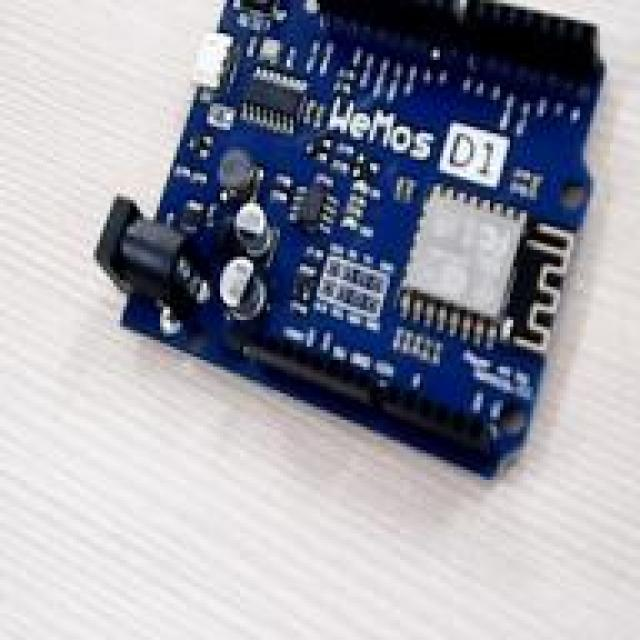Wemos: (98, 1, 601, 474)
